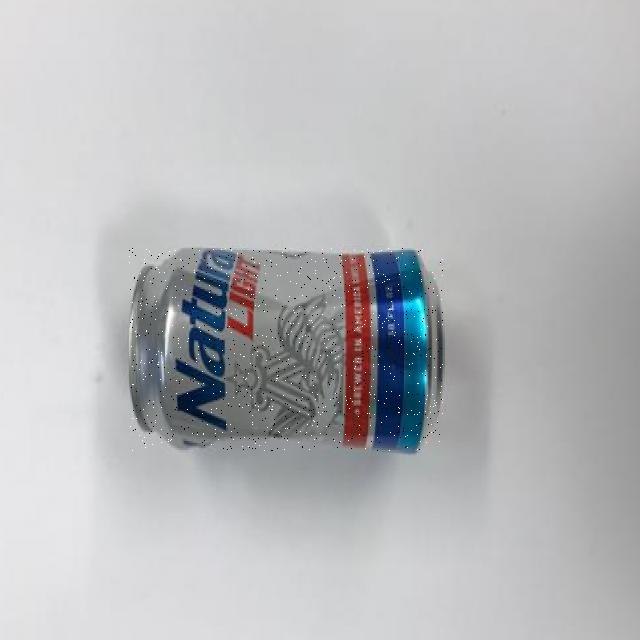metal: (130, 249, 444, 451)
